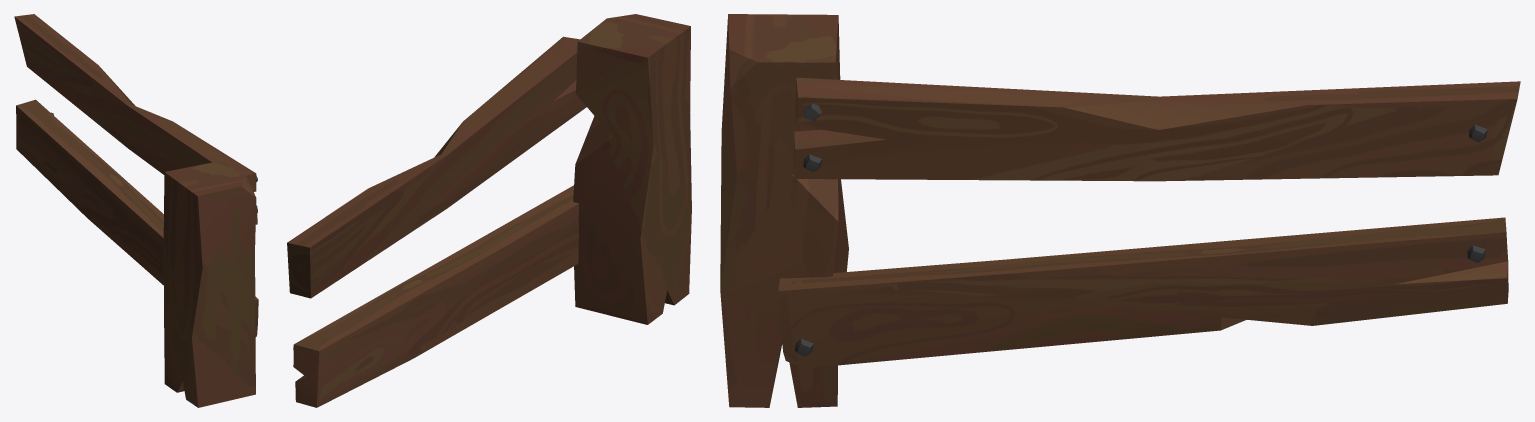
File: Fence3.fbx
3 views of the same model, side by side, from view 1: azimuth 30°, elevation 25°; view 2: azimuth 150°, elevation 25°; view 3: azimuth 270°, elevation 25° (orthographic). The views are drawn at different scales.
Visible parts, largest first — view 1: Słupek2.002; view 2: Słupek2.002; view 3: Słupek2.002.
Boxes of the visible parts, bbox=[...] form: Słupek2.002: bbox=[14, 14, 258, 407]; Słupek2.002: bbox=[287, 14, 691, 407]; Słupek2.002: bbox=[720, 14, 1520, 407].
Bounding box in the file's own units: 38.45 × 89.17 × 186.
Materials: 1 (1 with a texture image).
